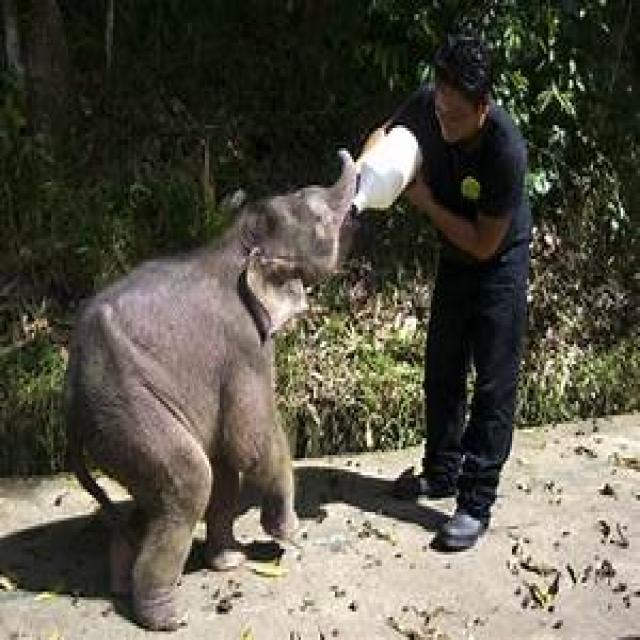elephant: (62, 151, 386, 631)
